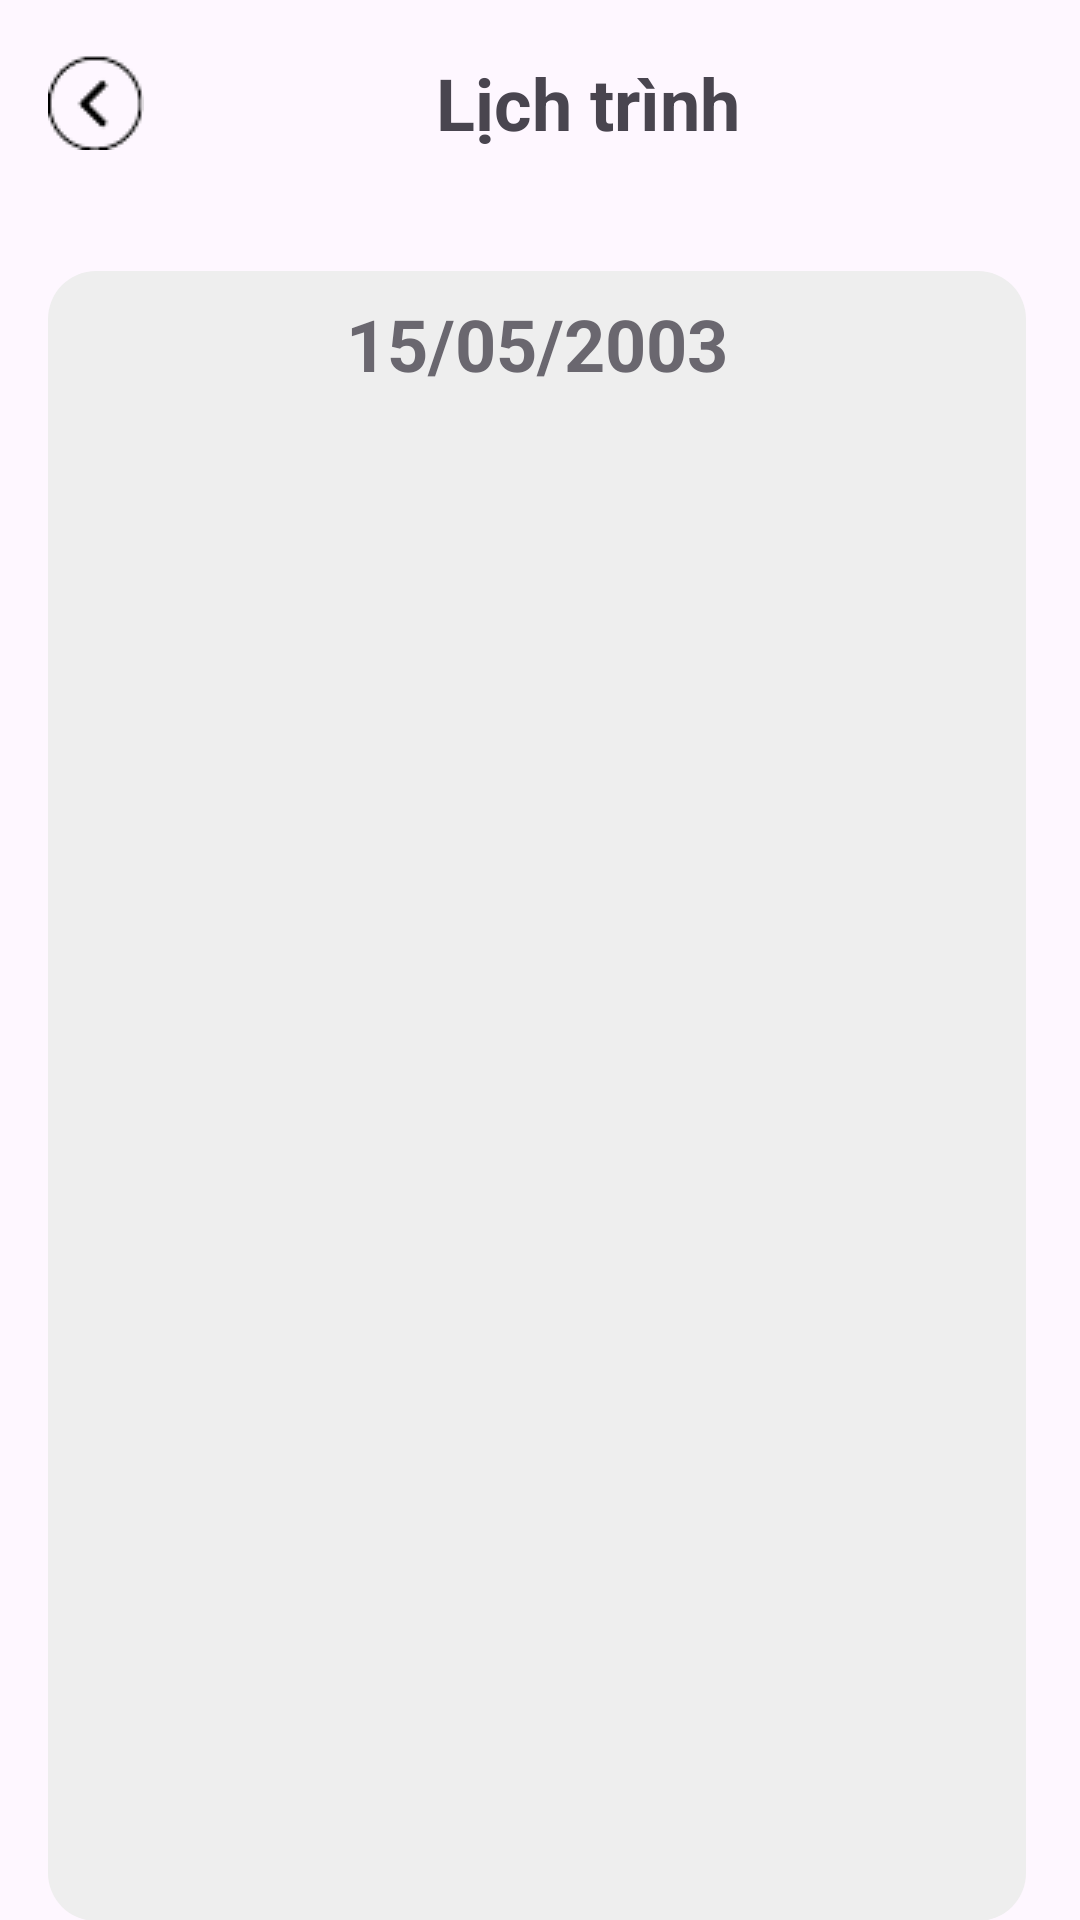

Screen size 1080x1920. Icon name, then its center in pixels as (x,y):
back: (96,103)
